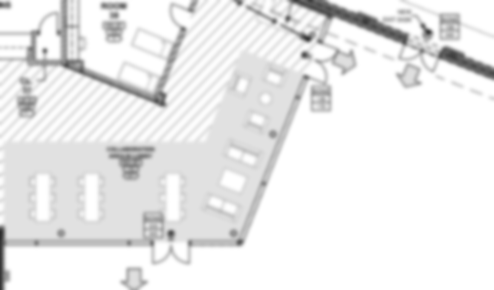door: (168, 1, 190, 28), (37, 10, 61, 33)
double door: (303, 42, 339, 86), (397, 41, 442, 72), (151, 241, 193, 267)
wall: (64, 64, 156, 112), (155, 26, 186, 103), (59, 1, 70, 69), (25, 58, 87, 66), (30, 29, 37, 63), (26, 46, 34, 66)
